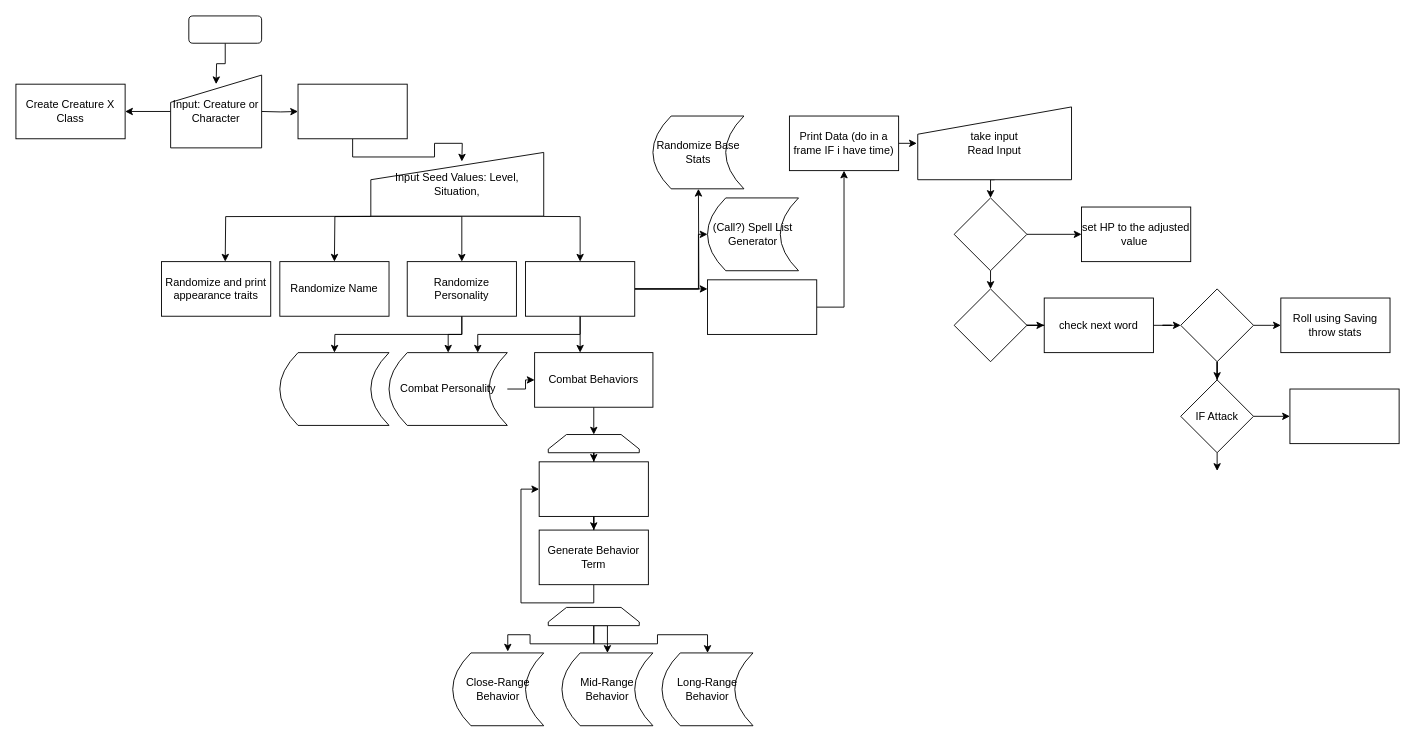
The diagram is 1415 pixels wide and 742 high, and some of its shapes have lost their labels. Each missing label, with the centre of its shape:
"Begin" goes at point (225, 29).
"Create Character X Class" goes at point (352, 111).
"IF Roll" goes at point (990, 325).
"IF Save" goes at point (1217, 325).
"IF: HP =" goes at point (990, 234).
"Print Specific Class Features" goes at point (762, 306).
"Randomize Class" goes at point (580, 288).
"Social Values" goes at point (334, 388).
"Update String" goes at point (593, 488).
"Use simple AI to determine course of action and print it with rolls." goes at point (1344, 416).
